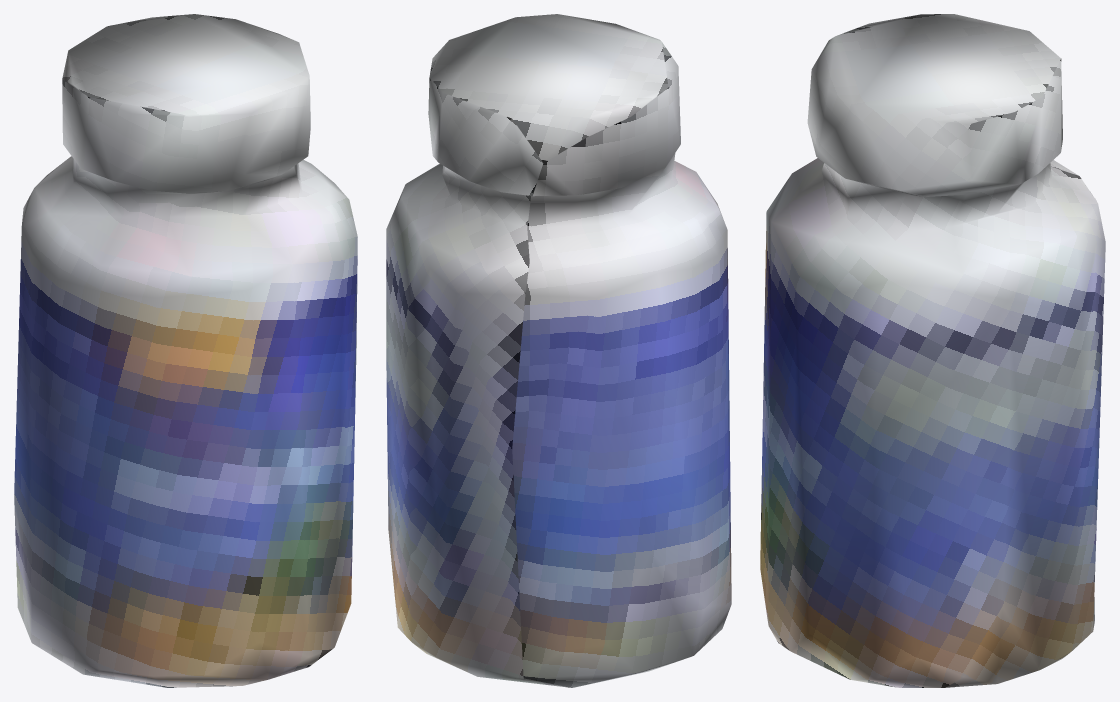
File: Mastic_Gum-low.glb
3 renders of one model, left to right at view 1: azimuth 30°, elevation 25°; view 2: azimuth 150°, elevation 25°; view 3: azimuth 270°, elevation 25°, orthographic.
Parts seen in each view (by area): view 1: Mastic_Gum; view 2: Mastic_Gum; view 3: Mastic_Gum.
Boxes of the visible parts, x1=… form: Mastic_Gum: x1=14, y1=14, x2=357, y2=687; Mastic_Gum: x1=386, y1=14, x2=731, y2=687; Mastic_Gum: x1=760, y1=14, x2=1105, y2=687.
Size of the model in its own units: 0.0542 by 0.0969 by 0.0538.
1 material, 1 textured.
